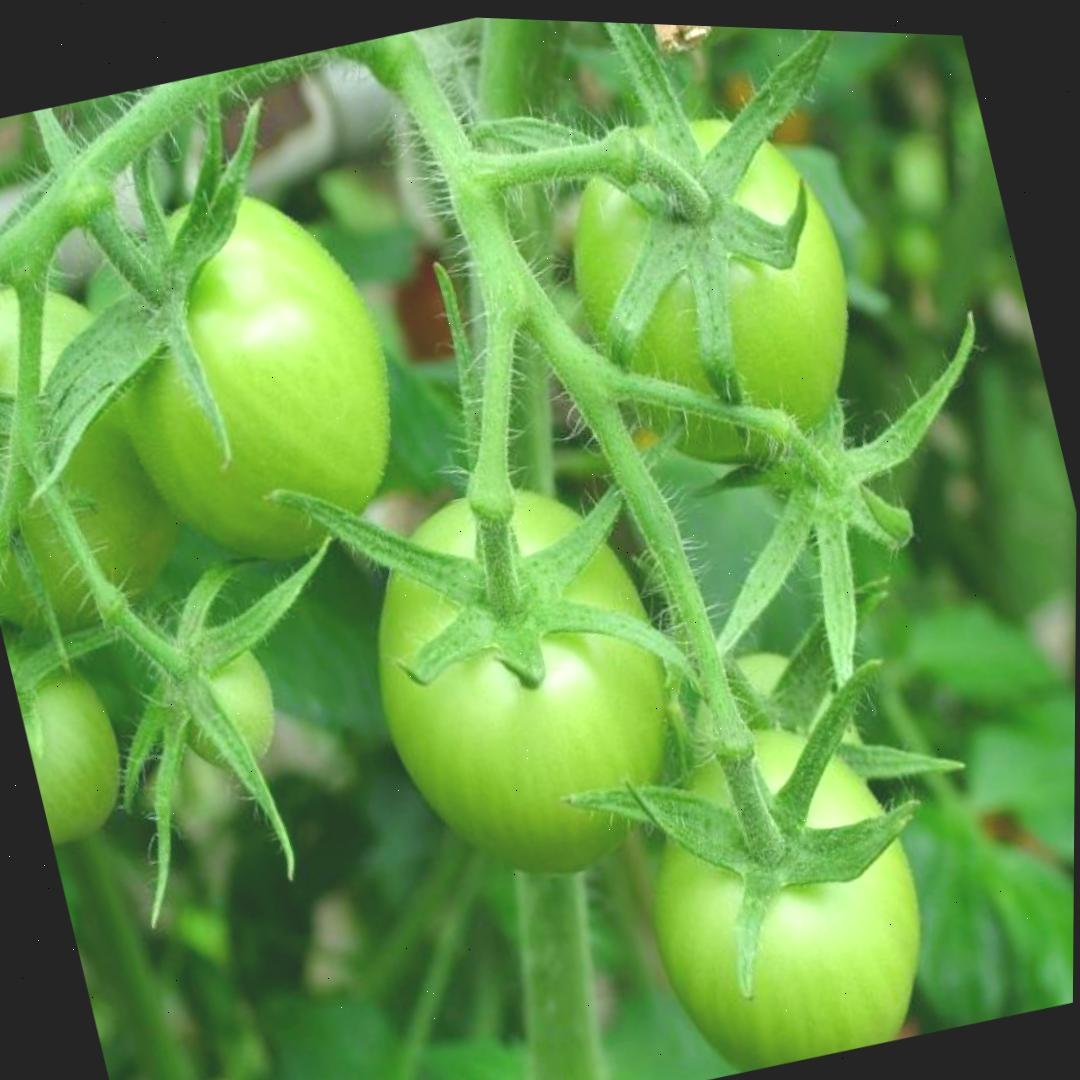mentah: (332, 451, 712, 916), (70, 156, 429, 598), (538, 83, 886, 497), (608, 688, 951, 1080), (154, 612, 290, 784)
